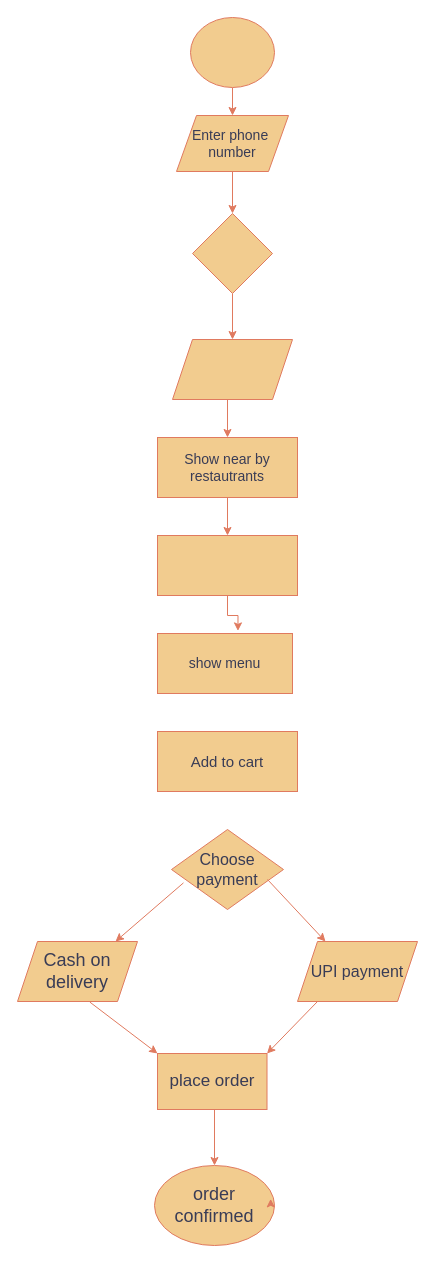
The diagram is 435 pixels wide and 1263 high, and some of its shapes have lost their labels. Each missing label, with the centre of its shape:
"Enter adderss" goes at (232,369).
"Select restaurant" goes at (227,565).
"User open apps" goes at (232,52).
"Verify otp" goes at (232,253).
